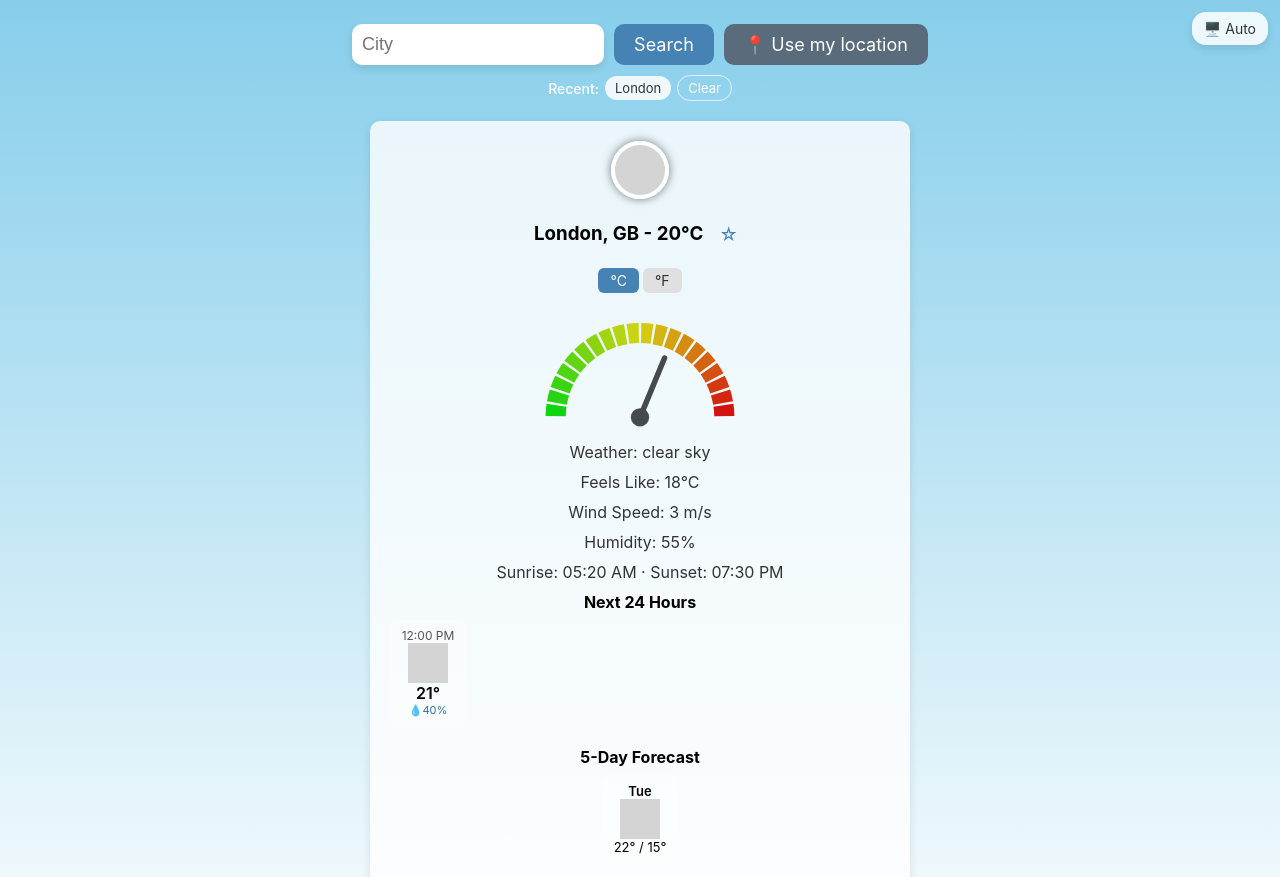
Test: autocomplete suggests cities and selects via keyboard
Expected: the heading "London, GB - 20°C ☆" is shown, [534,222,746,245]
Type "Londo" into the dropdown. click: (478, 44)
box: [352,24,604,65]
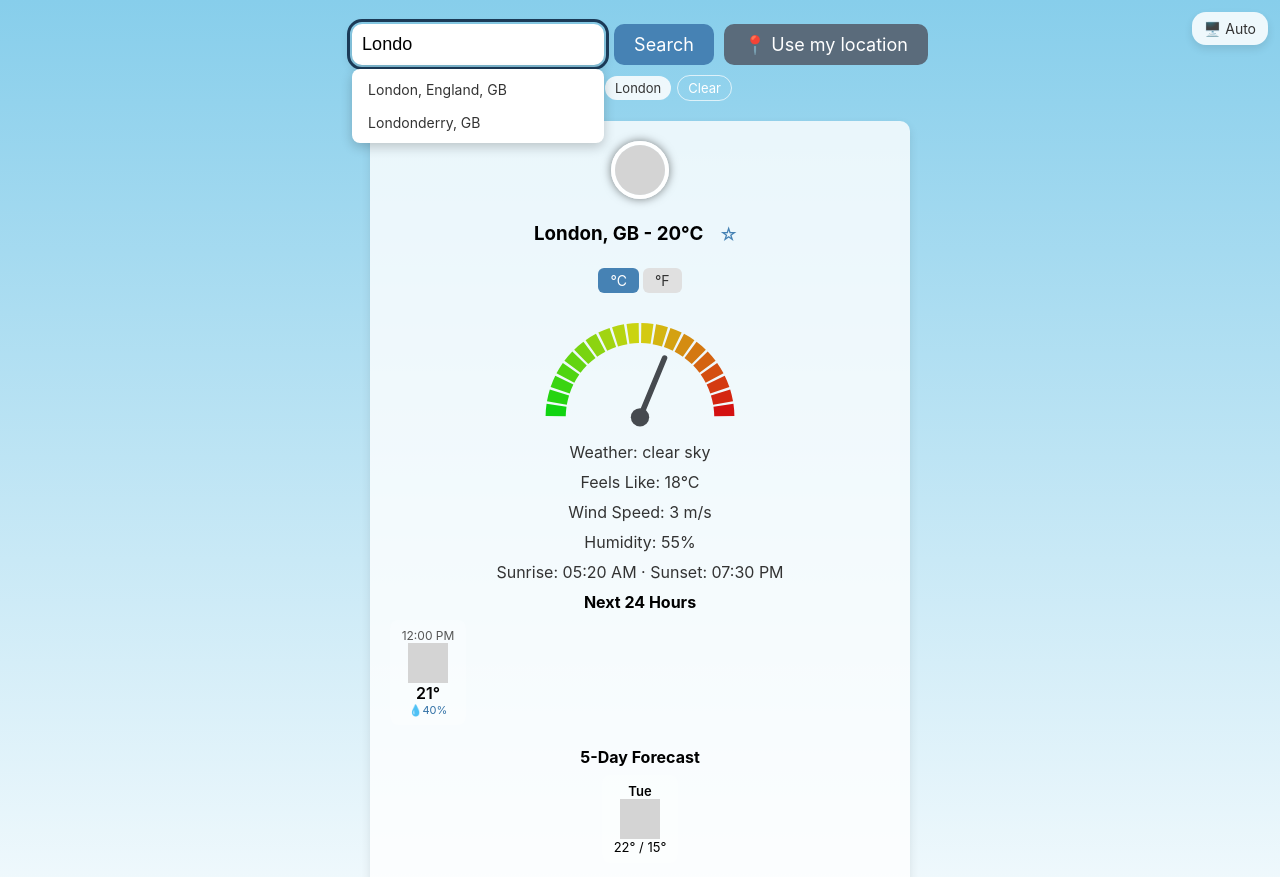
Expected: the option "London, England, GB" is shown, [368,81,507,98]
Expected: the option "Londonderry, GB" is shown, [368,114,480,131]
Press Arrowdown Enter
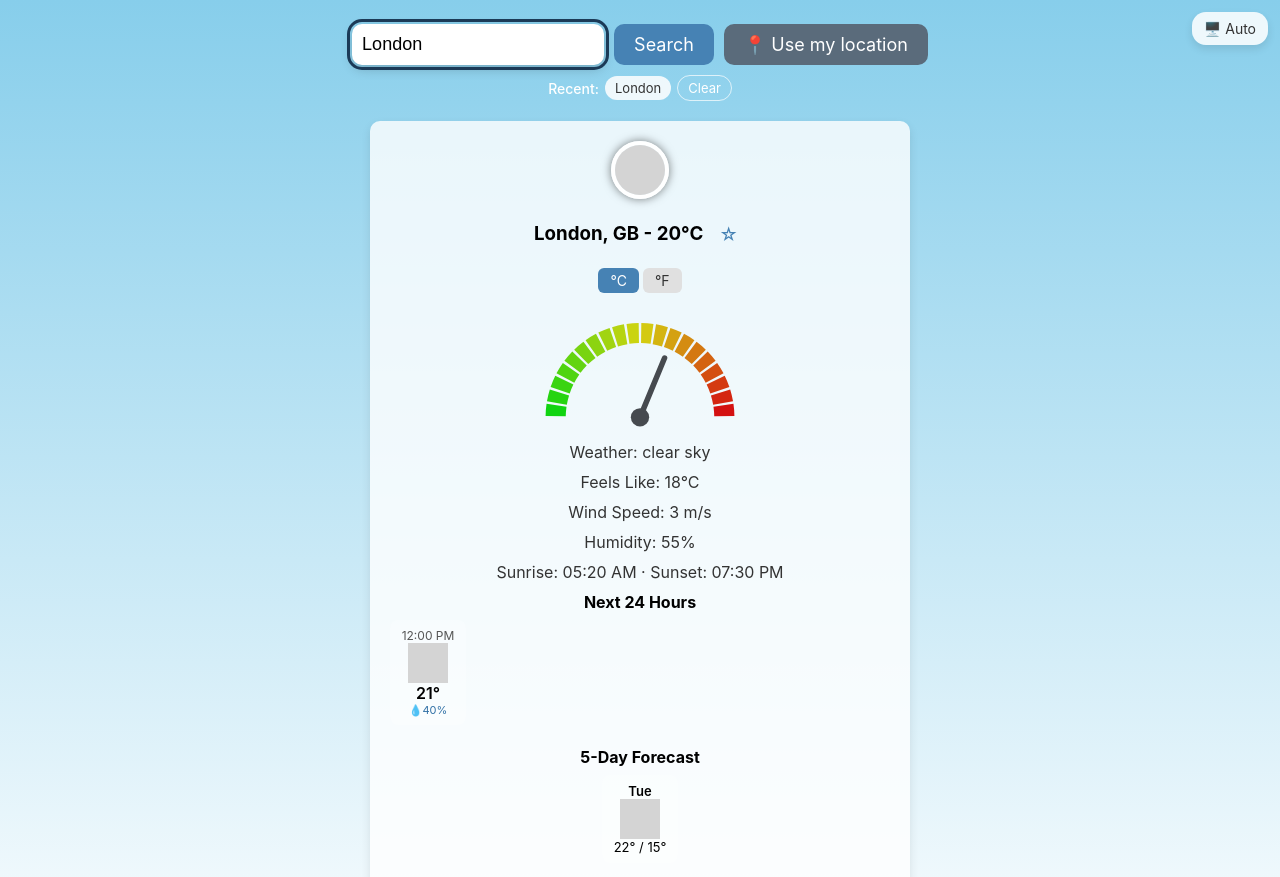
Expected: the heading "London, GB - 20°C ☆" is shown, [534,222,746,245]
Expected: the dropdown holds "London", [352,24,604,65]
Expected: the list is gone
